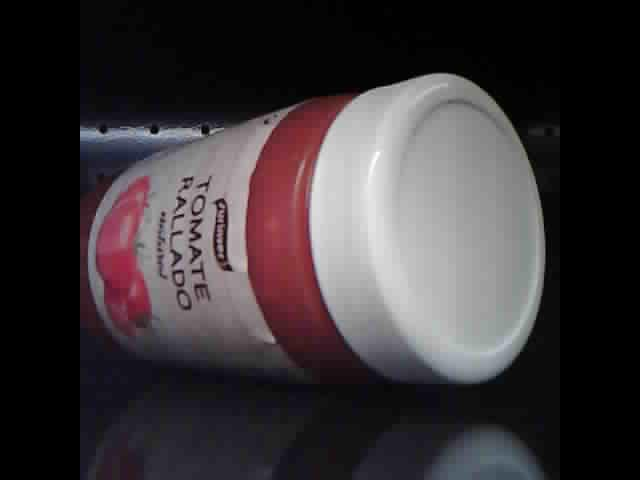tomate: (85, 73, 545, 387)
